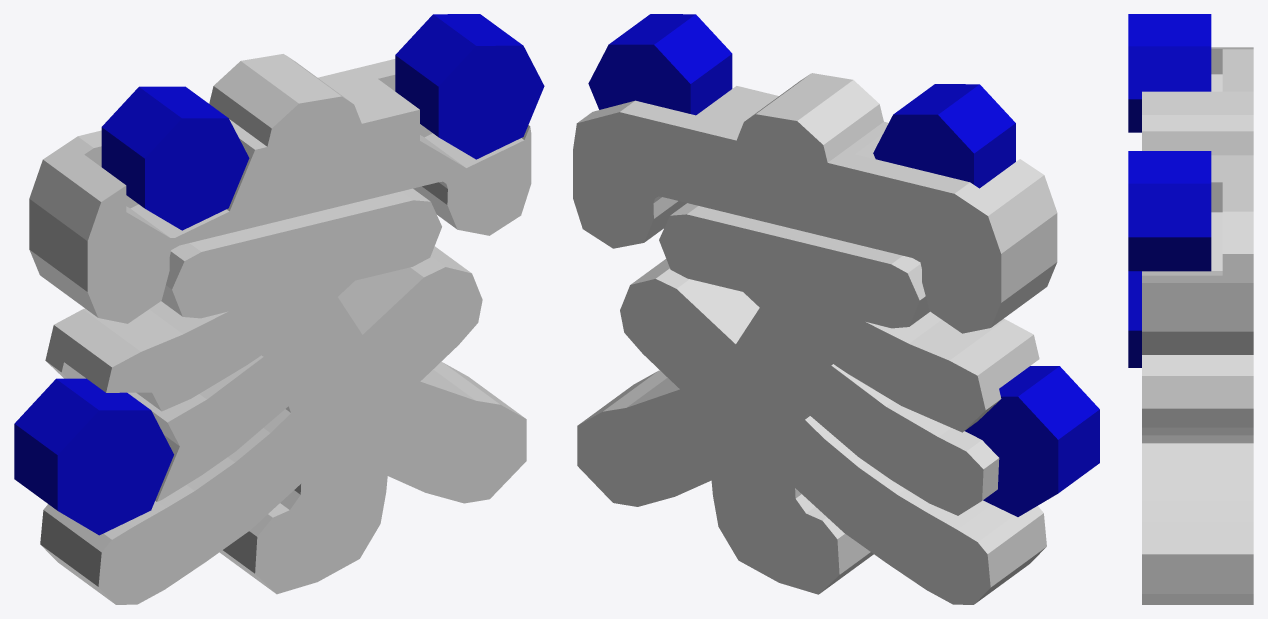
Rendered from Ch_Lite_China_家_01.fbx.
The picture shows the model from 3 angles, left to right: view 1: azimuth 30°, elevation 25°; view 2: azimuth 150°, elevation 25°; view 3: azimuth 270°, elevation 25°; orthographic projection. The views are drawn at different scales.
Visible parts, largest first — view 1: sphere1; view 2: sphere1; view 3: sphere1.
Boxes of the visible parts, x1=… form: sphere1: x1=14, y1=14, x2=544, y2=604; sphere1: x1=573, y1=14, x2=1099, y2=604; sphere1: x1=1128, y1=14, x2=1253, y2=604.
Bounding box in the file's own units: 0.9639 × 0.9587 × 0.2242.
